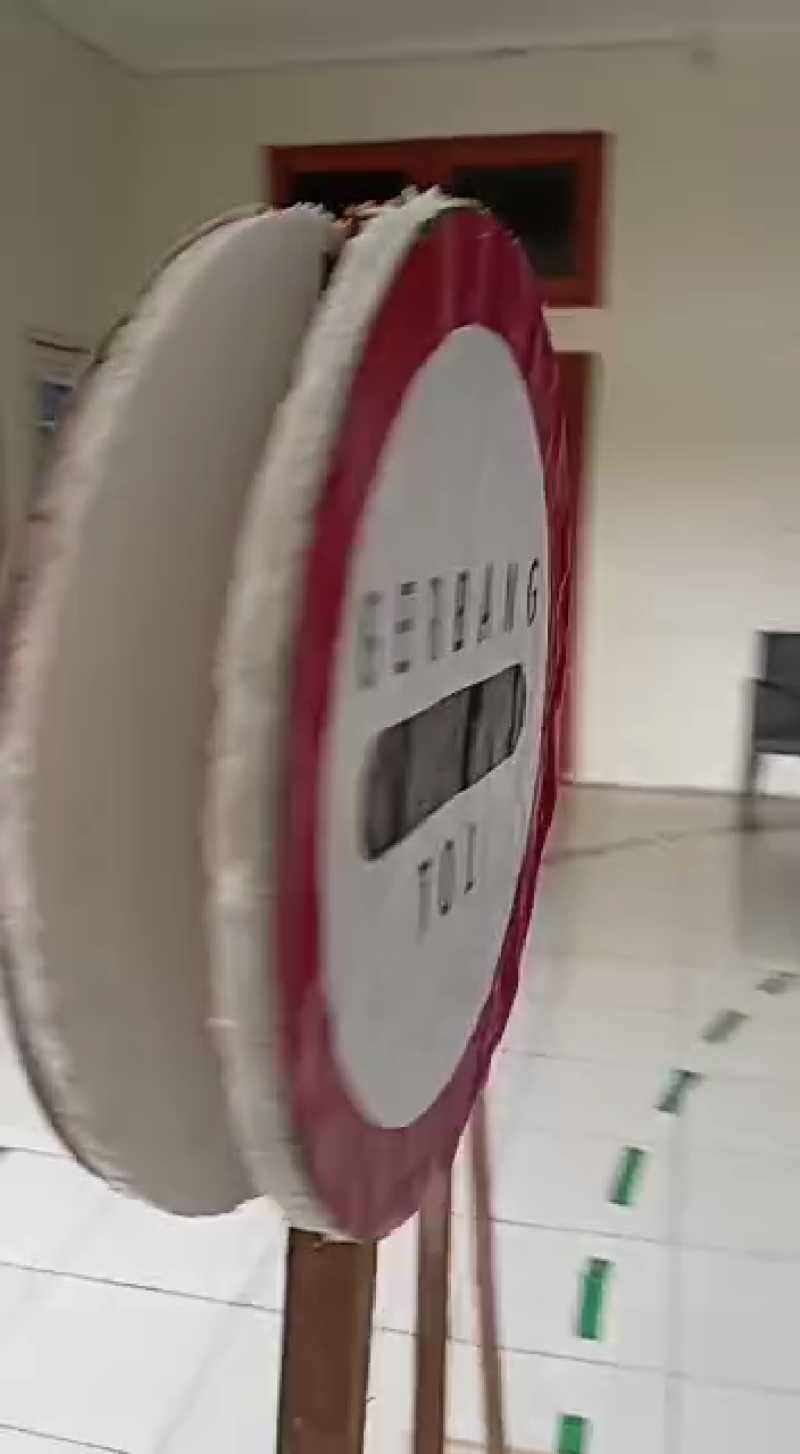gerbang tol: (246, 180, 610, 1254)
